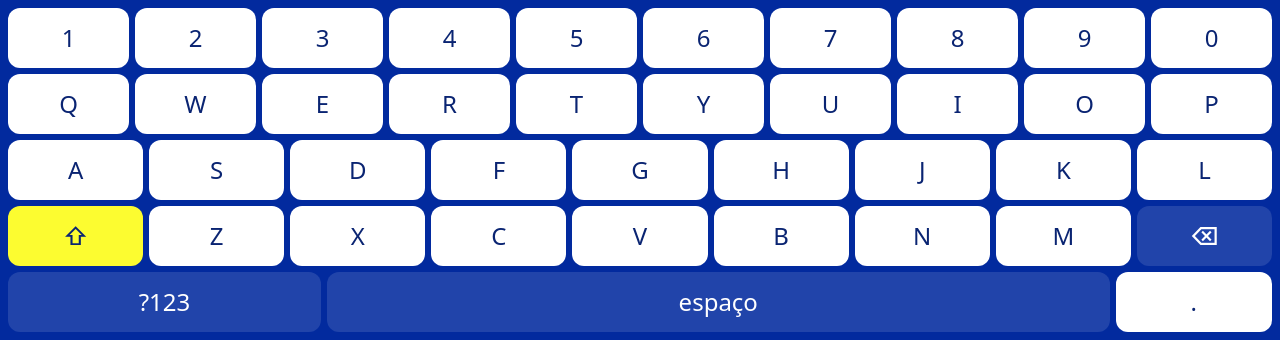
Test: VirtualKeyboard — maiúsculas acentuadas (Cenário 7) › com shift, o popup exibe as variantes em maiúsculas
The width and height of the screenshot is (1280, 357).
Press the mouse on the button "A": (76,170) [8,140,143,200]
Wait 350 ms
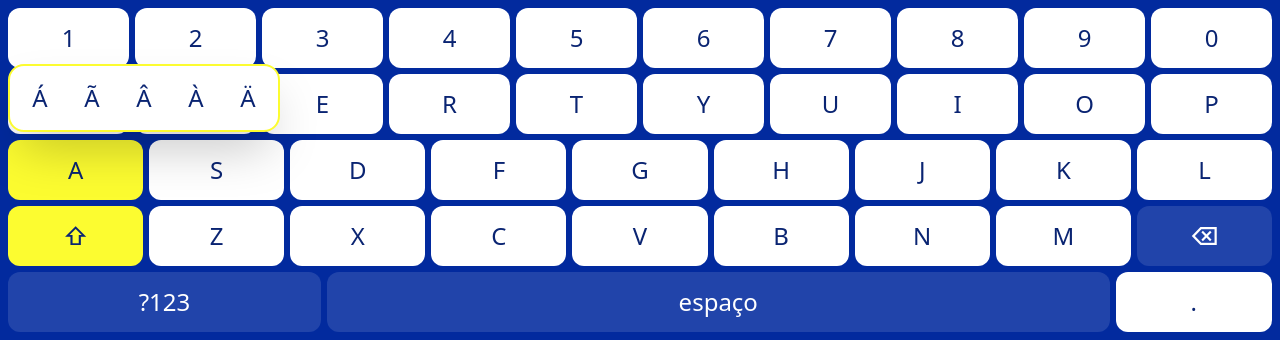
expect the button "Ã" is shown: met, box [68,72,116,124]
expect the button "Á" is shown: met, box [16,72,64,124]
